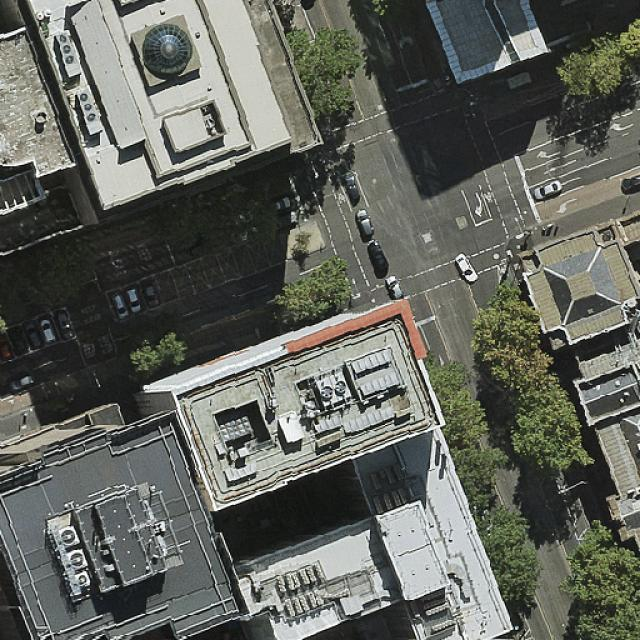Bike-Symbols: (483, 192, 494, 202)
